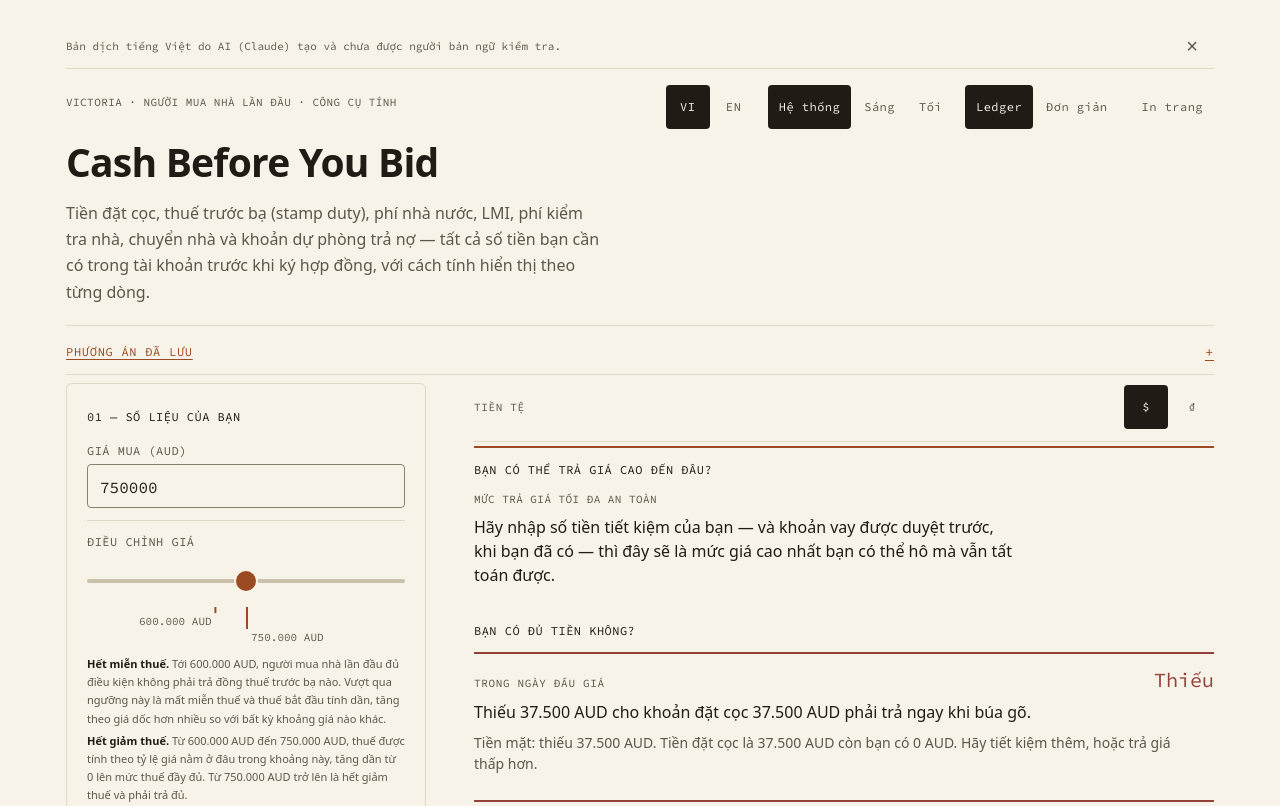
Test: the exchange rate › falls back to the indicative rate when the request fails, and says so
Expected: the field labelled "Giá mua (AUD)" is shown, [87, 464, 405, 508]
Click the button named "Đồng Việt Nam" at (1192, 407), box [1170, 385, 1214, 429]
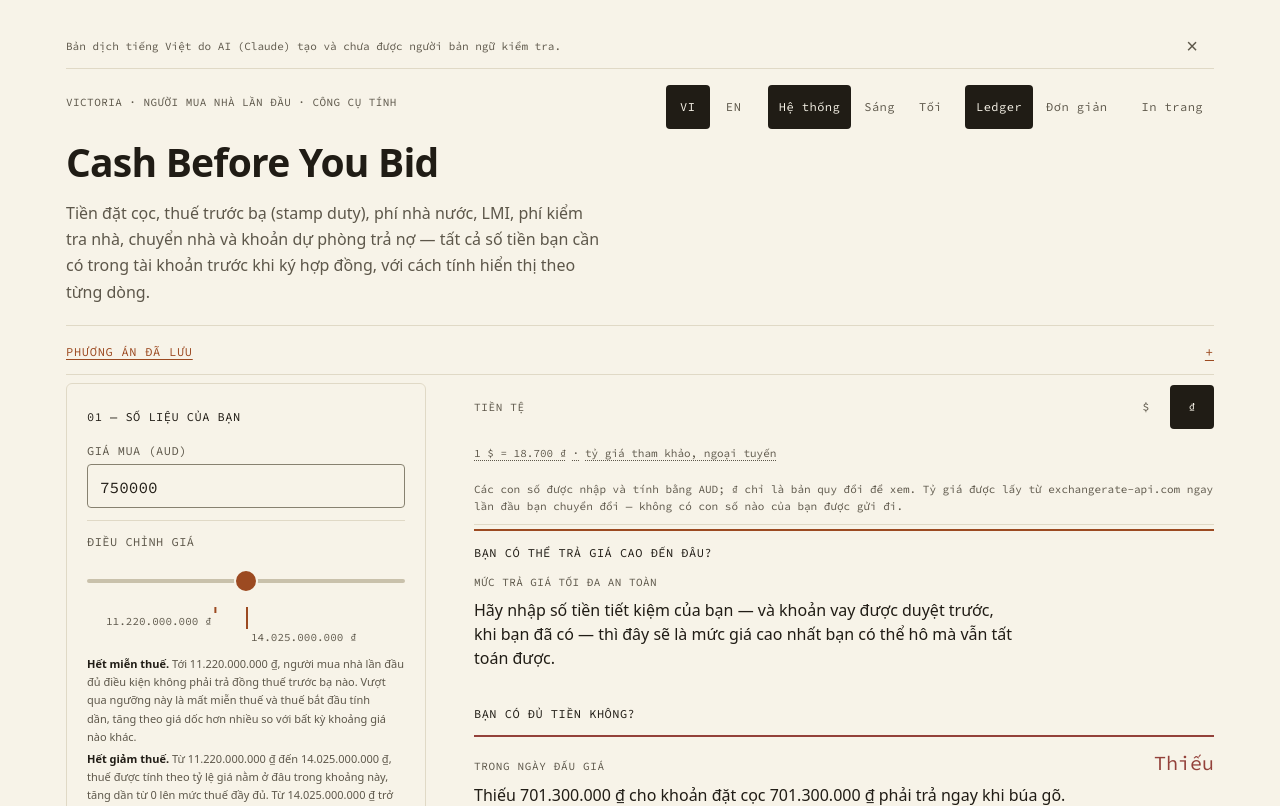
Expected: the button with class "ratebtn" shows "ngoại tuyến", [474, 431, 776, 475]
